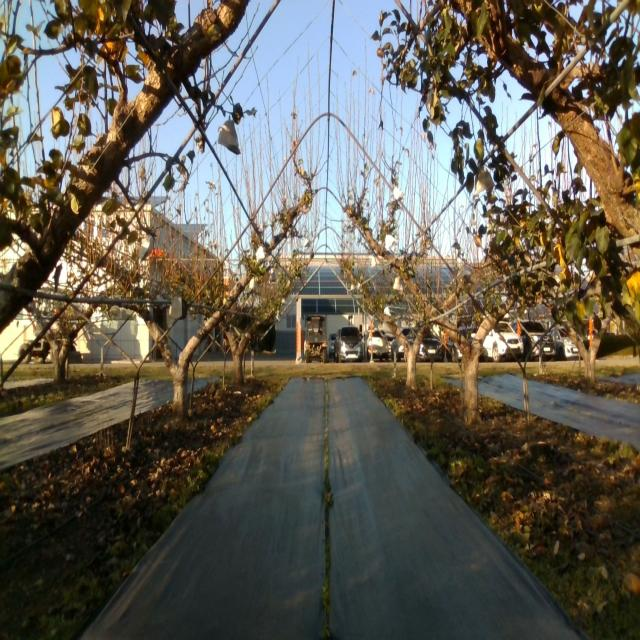pearbags: (218, 116, 242, 155), (475, 165, 495, 195), (140, 234, 153, 262), (462, 264, 474, 286)
